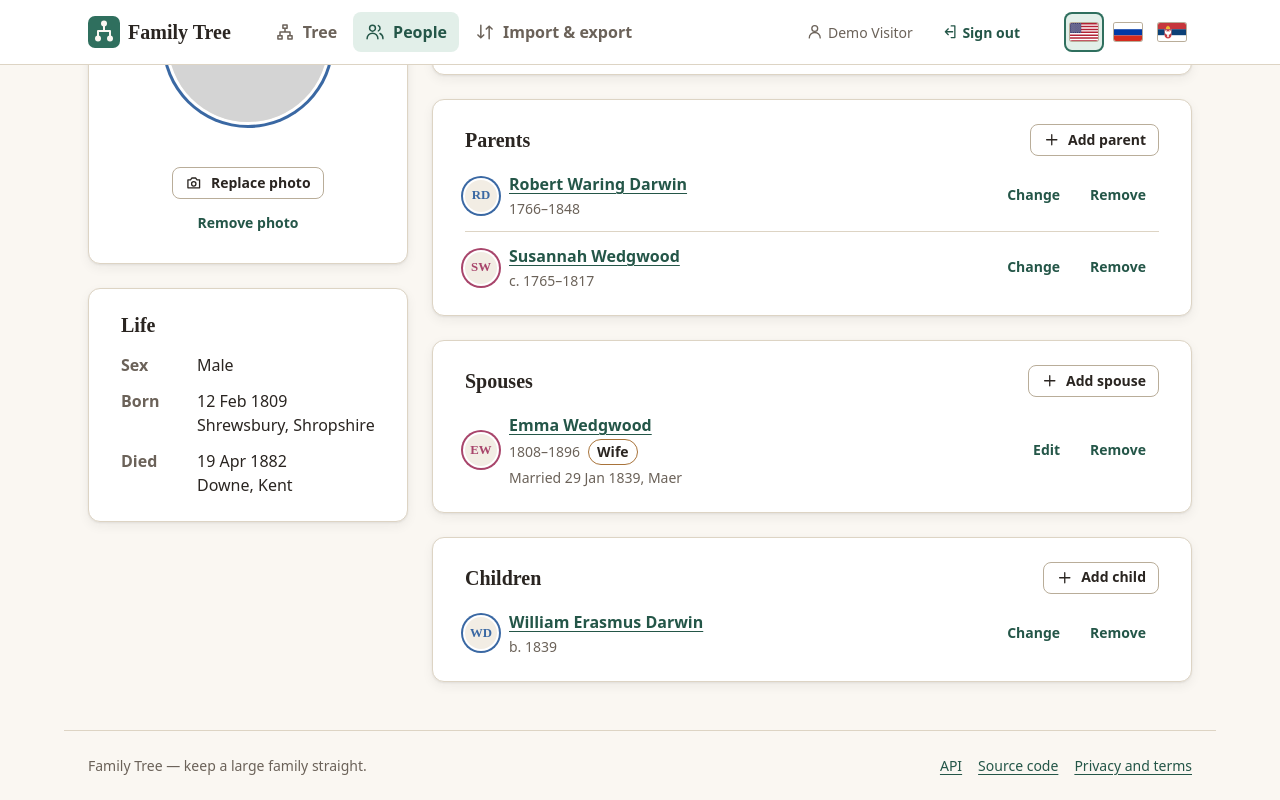
Test: a marriage can be given an end and offers no other kind
The image size is (1280, 800).
(page scrolled)
Click the button named "Edit Emma Wedgwood" at (1047, 450), box [1020,434,1073,466]
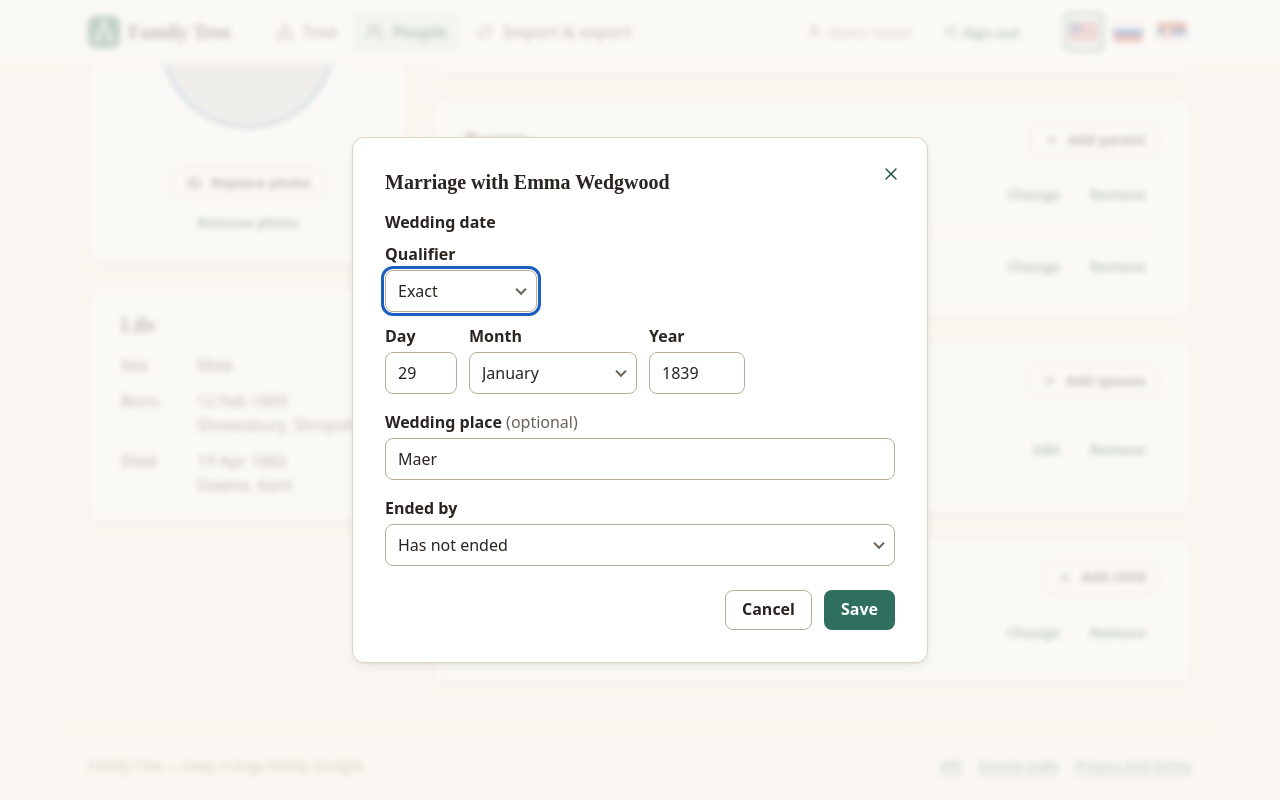
Select "Separation" in the dropdown labelled "Ended by" at (640, 545), box [385,524,895,566]
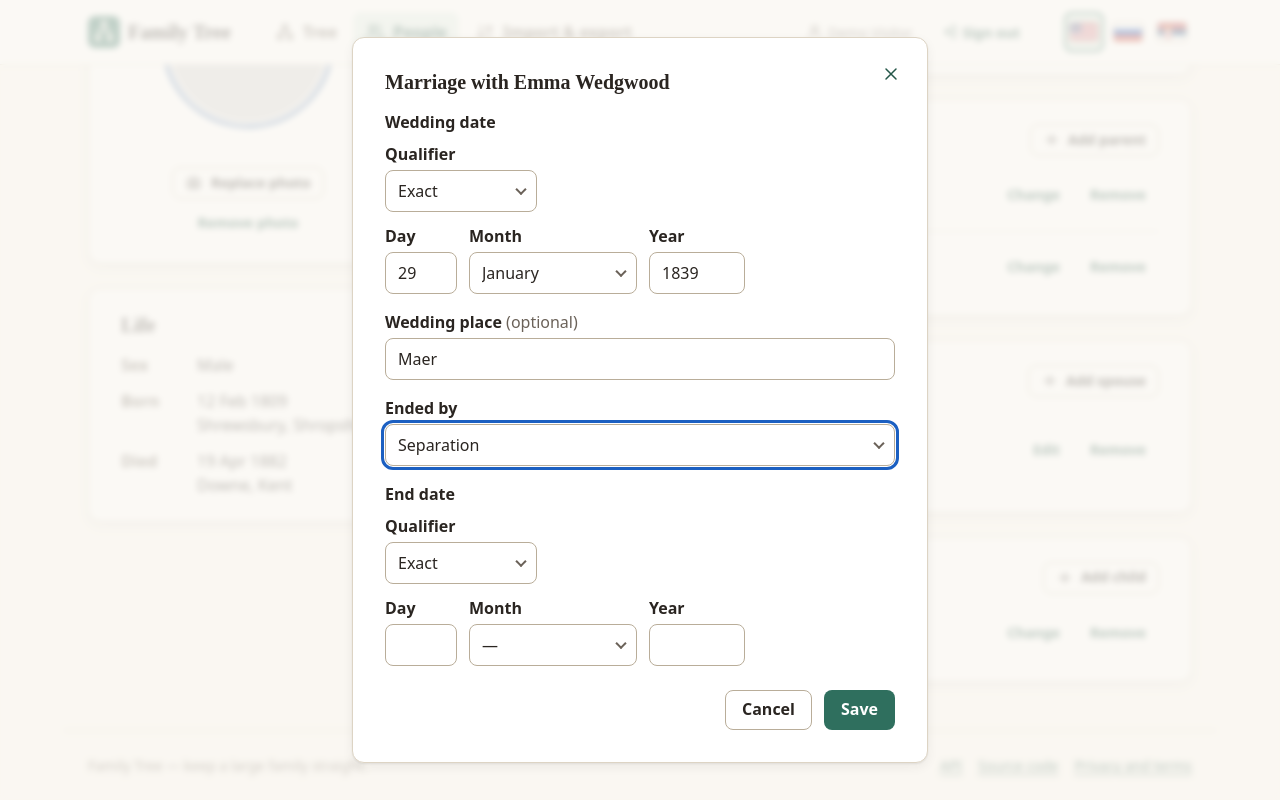
Type "1850" into the field labelled "Year" below "End date" at (697, 645), box [649,624,745,666]
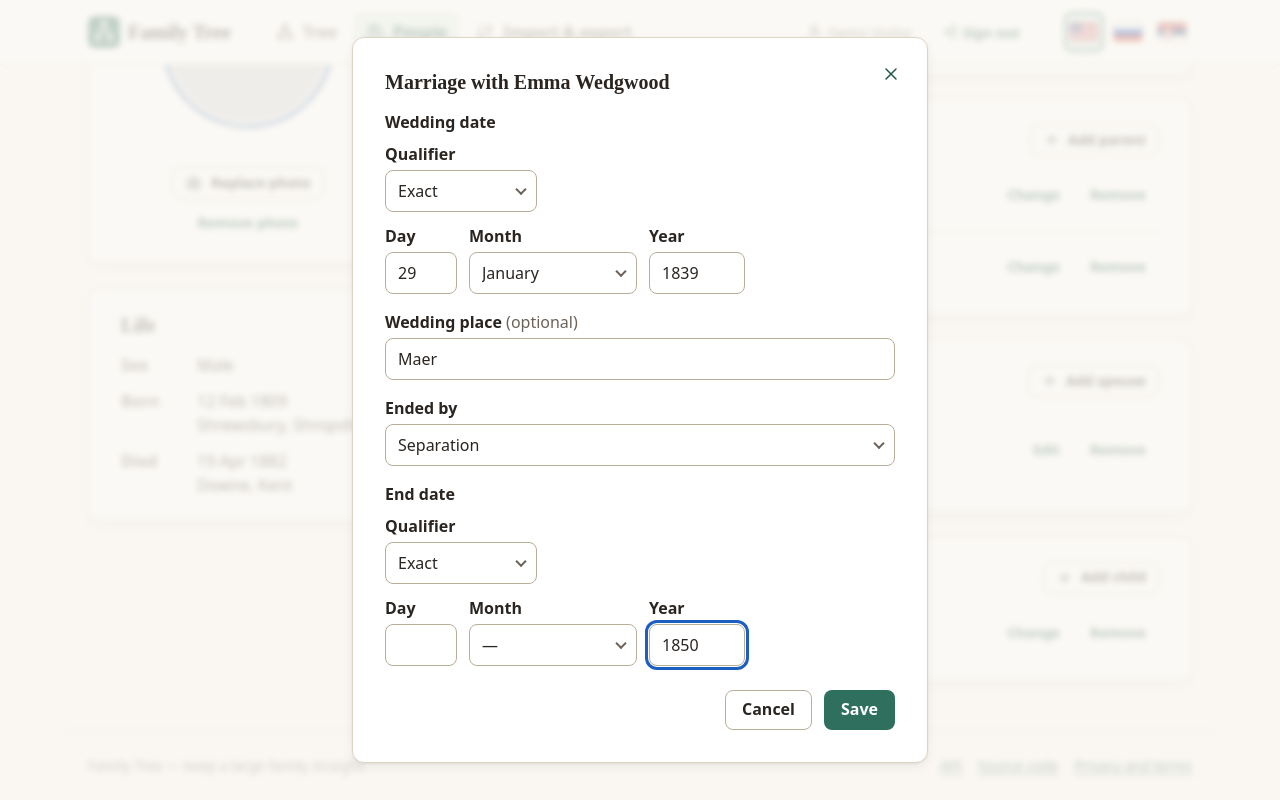
Click the button "Save" at (860, 710), box [824,690,895,730]
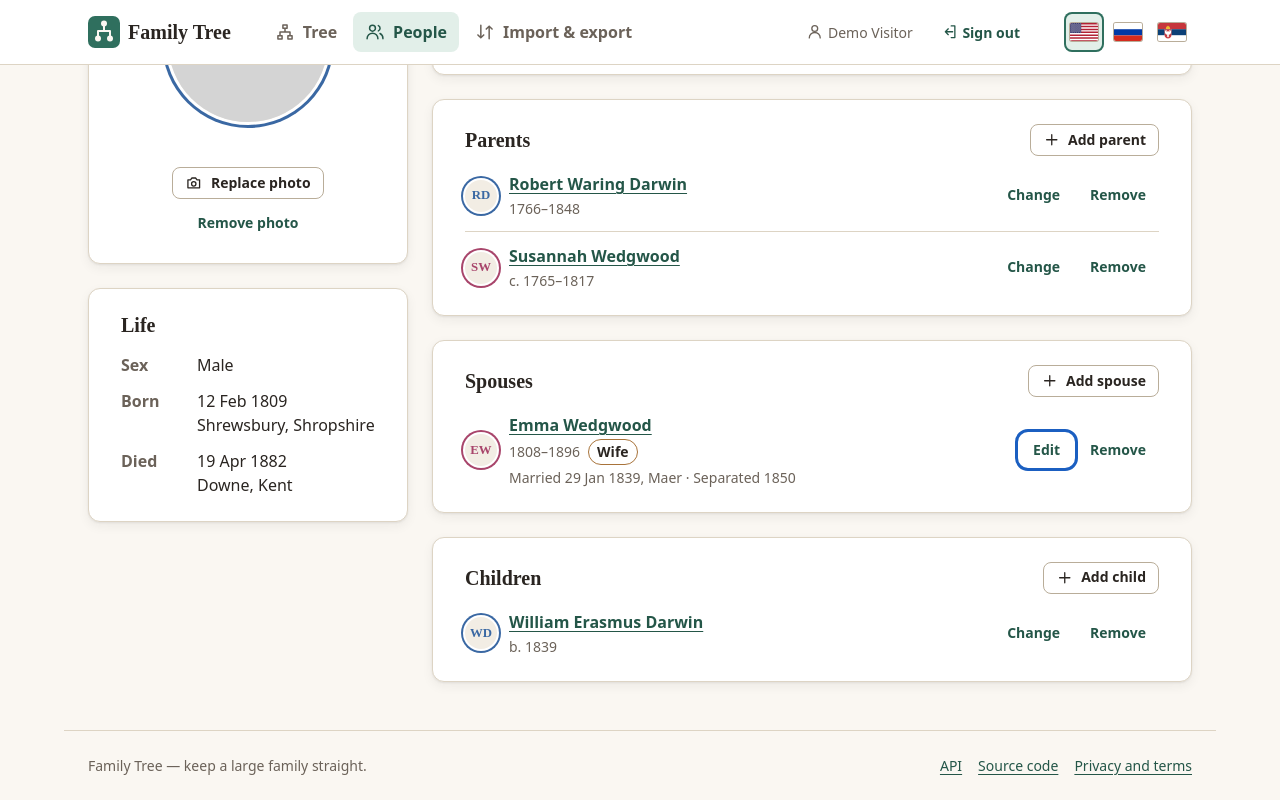
expect the text "Married 29 Jan 1839, Maer · Separated 1850" is shown: met, box [509,468,796,487]
